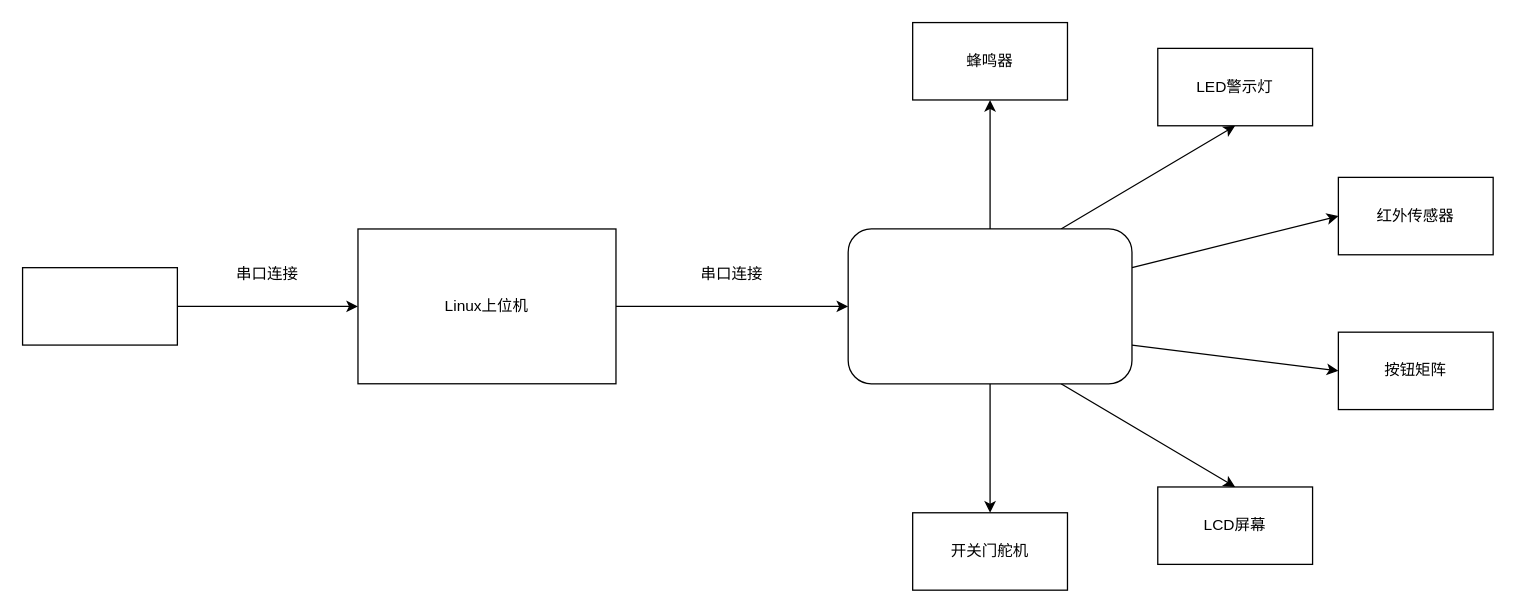
Image size: 1516x613. Some labels were removed from this diagram. The box of each missing label's shape, as (x1, y1, x2, y2) in pixels:
Arduino开发板: (847, 228, 1132, 384)
USB摄像头: (21, 266, 177, 345)
